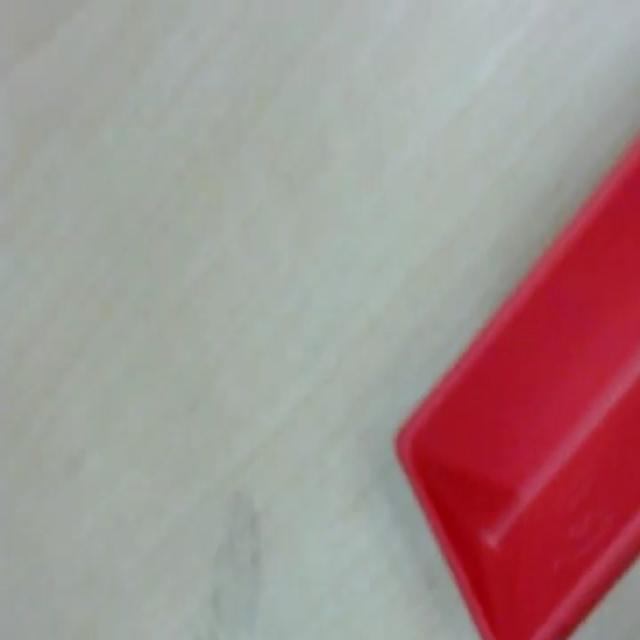red_block: (392, 131, 638, 637)
